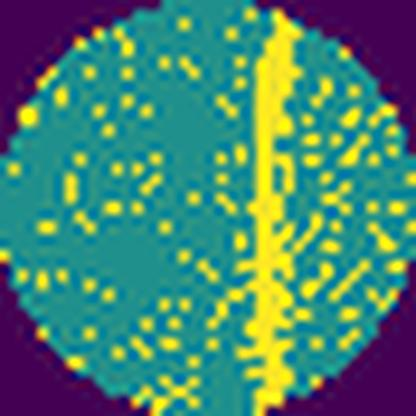Loc: (250, 14, 298, 416)
